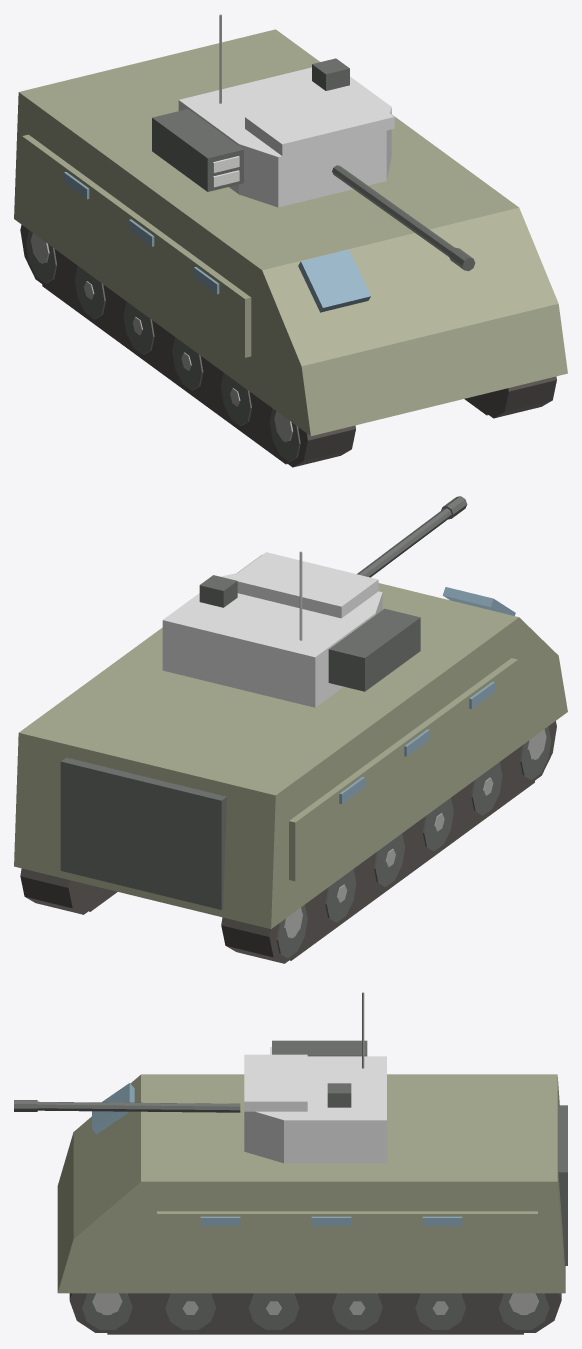
Rendered from civ_unit_mech_infantry.glb.
The picture shows the model from 3 angles, top to bottom: view 1: azimuth 30°, elevation 25°; view 2: azimuth 150°, elevation 25°; view 3: azimuth 270°, elevation 25°; orthographic projection. The views are drawn at different scales.
Parts seen in each view (by area): view 1: civ_unit_mech_infantry; view 2: civ_unit_mech_infantry; view 3: civ_unit_mech_infantry.
Boxes of the visible parts, bbox=[...] form: civ_unit_mech_infantry: bbox=[14, 14, 567, 467]; civ_unit_mech_infantry: bbox=[14, 496, 567, 963]; civ_unit_mech_infantry: bbox=[14, 992, 567, 1334].
Bounding box in the file's own units: 3.46 × 3.8 × 6.98.
